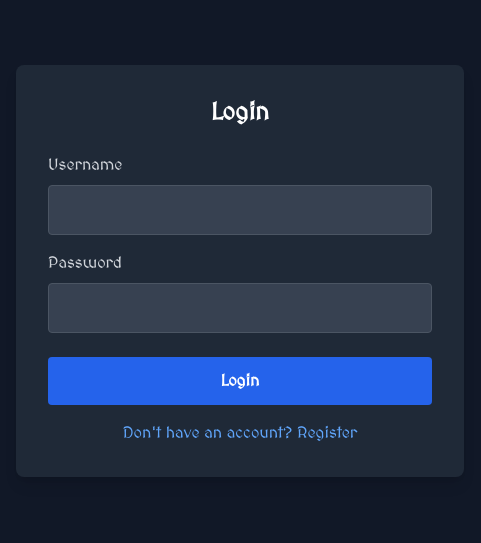
Test case: Login component › switches to register form when clicking register link
Click the button "Don't have an account? Register": (240, 433) [123,421,357,445]
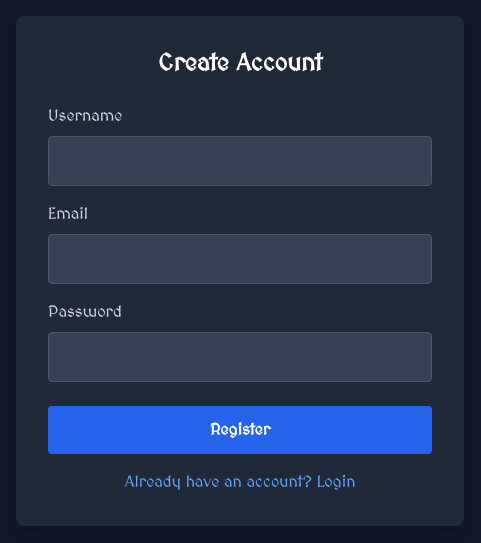
Expected: the heading "Create Account" is shown, [158,50,322,77]
Expected: the field labelled "Email" is shown, [48,234,432,284]
